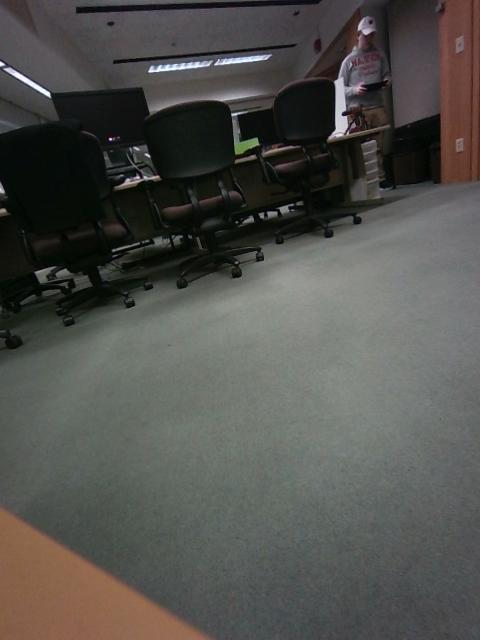block: (312, 341, 399, 430)
